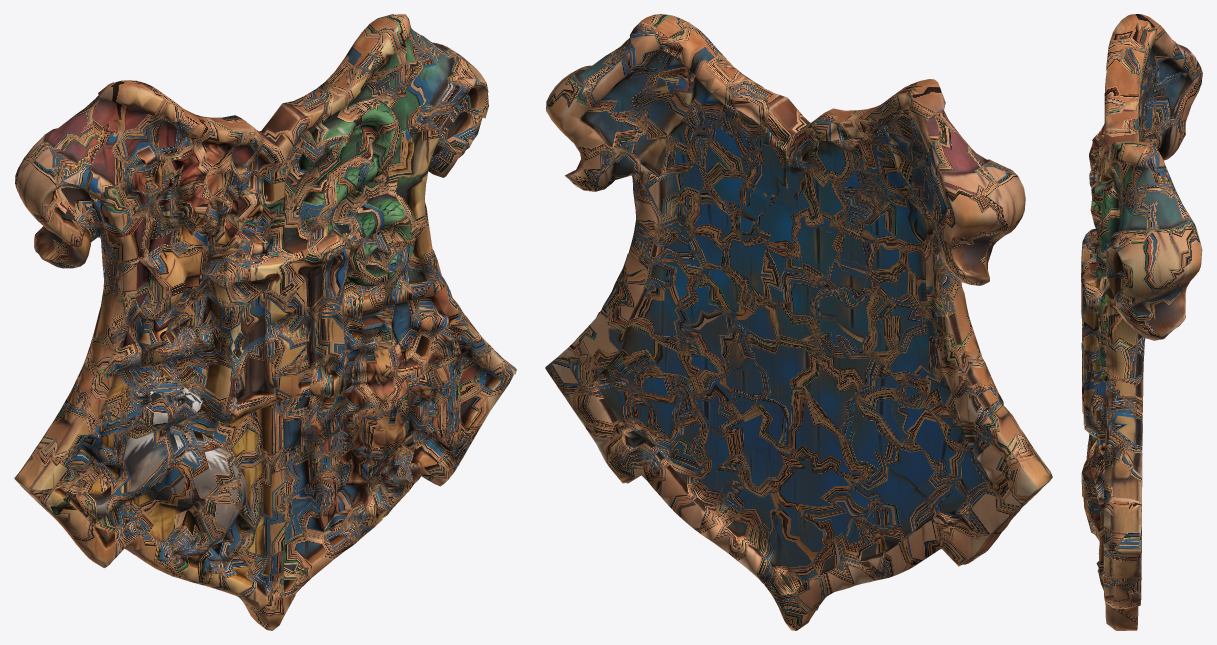
The model's file is arcane-academy-crest.glb.
3 renders of one model, left to right at view 1: azimuth 30°, elevation 25°; view 2: azimuth 150°, elevation 25°; view 3: azimuth 270°, elevation 25°, orthographic. The views are drawn at different scales.
Size of the model in its own units: 1.78 by 2 by 0.4008.
Materials: 1 (1 with a texture image).
